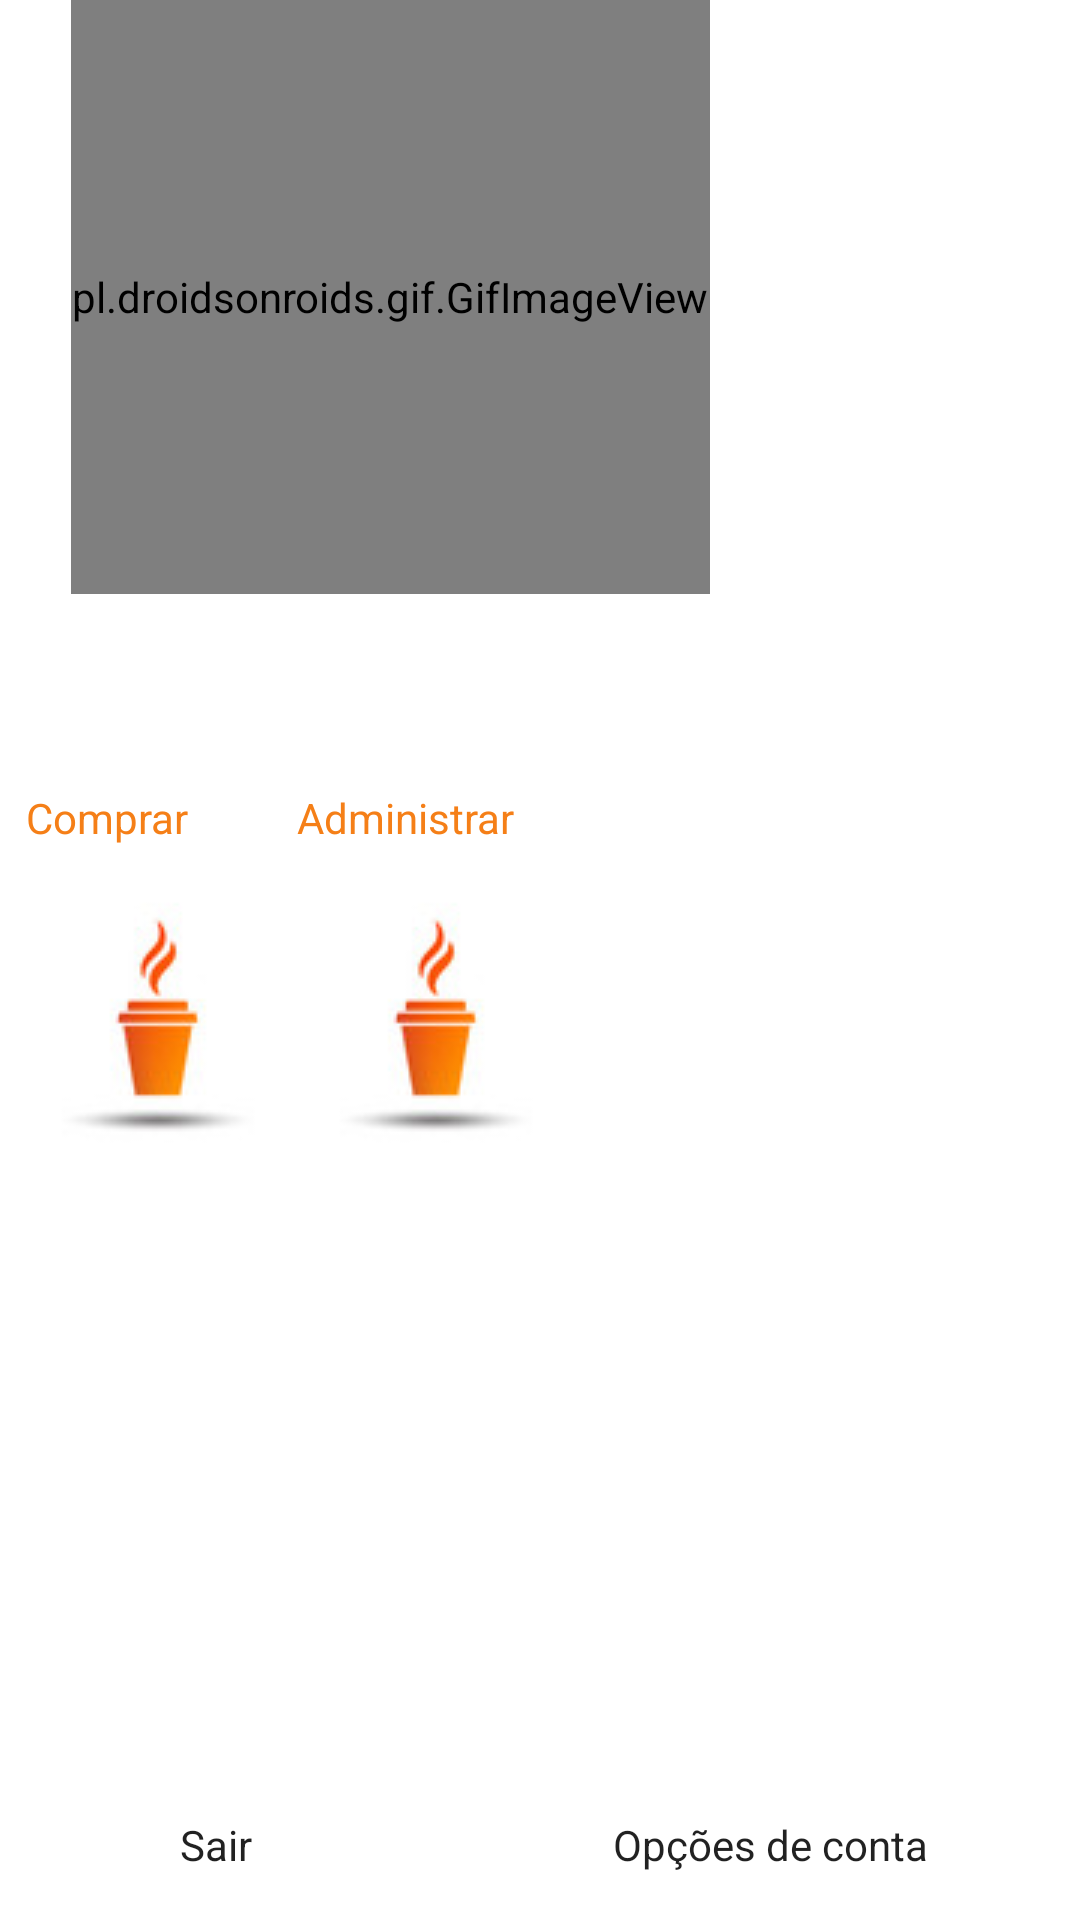

Icons on this 1080w x 1920h Android screen, each with the point to tap as (x=x, y=y):
cafeespresso: (x=157, y=1024), (x=435, y=1024)
